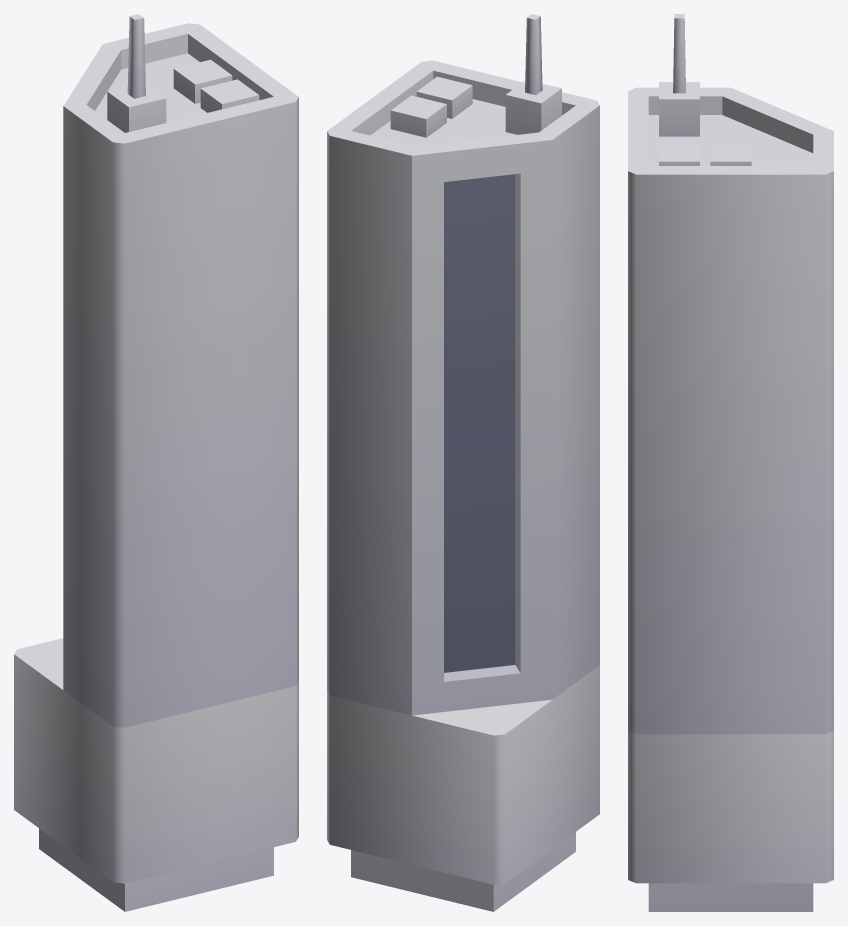
File: bldc.glb
3 views of the same model, side by side, from view 1: azimuth 30°, elevation 25°; view 2: azimuth 150°, elevation 25°; view 3: azimuth 270°, elevation 25° (orthographic). The views are drawn at different scales.
Parts seen in each view (by area): view 1: low-detail-building-c; view 2: low-detail-building-c; view 3: low-detail-building-c.
Boxes of the visible parts, x1,y1,x2,y2 form: low-detail-building-c: (14, 14, 298, 911); low-detail-building-c: (327, 14, 599, 911); low-detail-building-c: (628, 14, 833, 911).
Bounding box in the file's own units: 0.4999 × 2.25 × 0.4999.
Materials: 1 (1 with a texture image).
